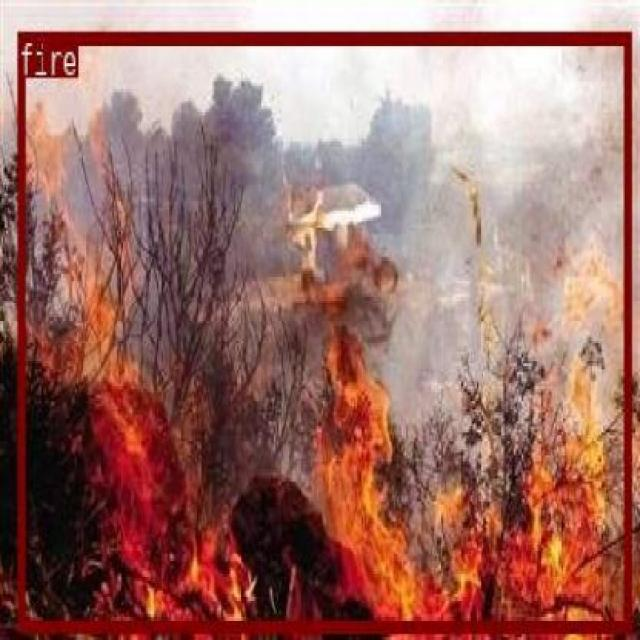Fire: (17, 30, 631, 632)
